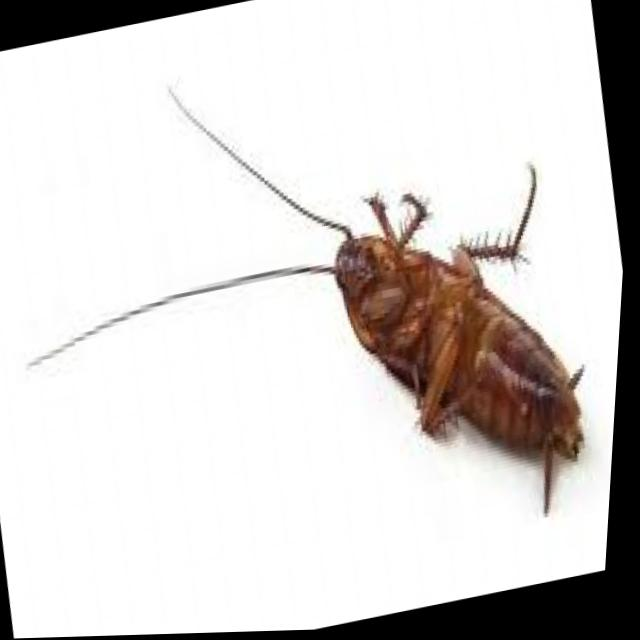Cockroach: (0, 0, 637, 627)
